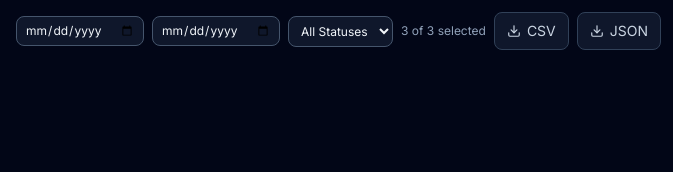
Test case: <TransactionExporter /> › narrows the selection by date range
The width and height of the screenshot is (673, 172).
Type "2026-01-05" into the 1st date field named "Export from date" at (80, 31), box x1=16 y1=16 x2=144 y2=46
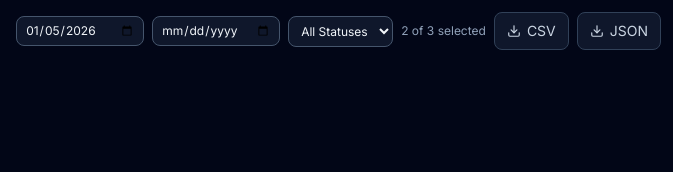
Type "2026-01-15" into the 2nd date field named "Export to date" at (216, 31), box x1=152 y1=16 x2=280 y2=46
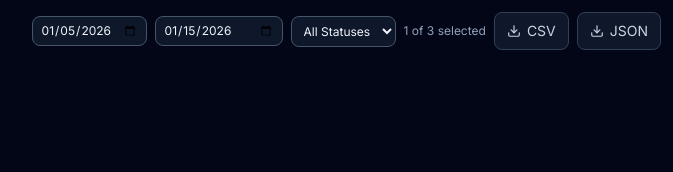
expect the message with test id "export-count" reads "1 of 3 selected": met, box x1=404 y1=23 x2=486 y2=39
